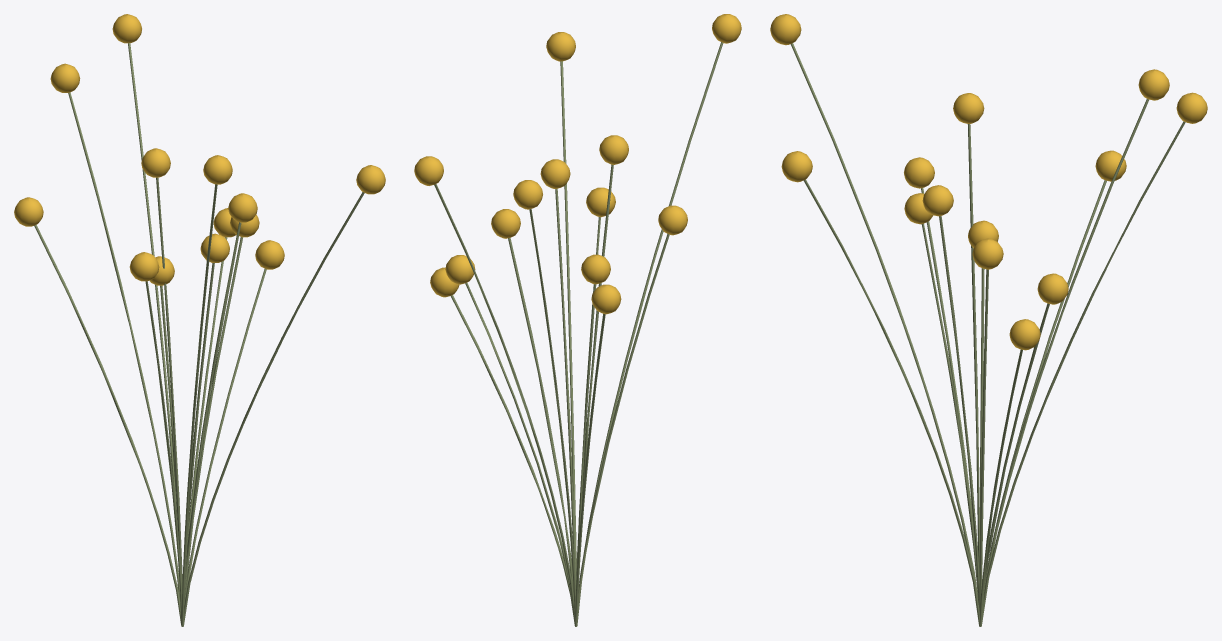
Rendered from billy-2.glb.
3 renders of one model, left to right at view 1: azimuth 30°, elevation 25°; view 2: azimuth 150°, elevation 25°; view 3: azimuth 270°, elevation 25°, orthographic. The views are drawn at different scales.
Visible parts, largest first — view 1: billy-stems, billy-leaves; view 2: billy-stems, billy-leaves; view 3: billy-stems, billy-leaves.
Boxes of the visible parts, <box> form: billy-stems: <box>34,43,364,626</box>; billy-leaves: <box>14,14,385,285</box>; billy-stems: <box>434,42,723,626</box>; billy-leaves: <box>414,14,741,314</box>; billy-stems: <box>790,43,1185,626</box>; billy-leaves: <box>770,14,1207,350</box>.
Bounding box in the file's own units: 0.2816 × 0.6564 × 0.4476.
